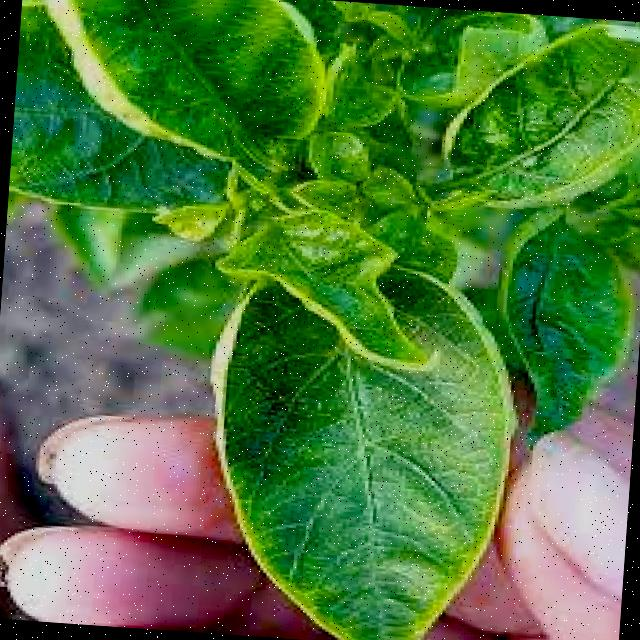leaf curl: (17, 0, 640, 413)
